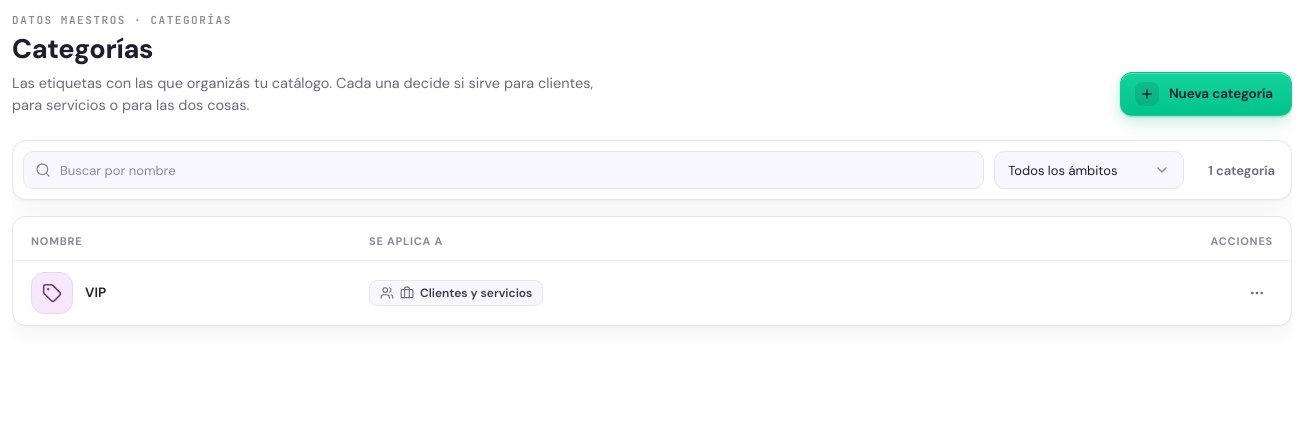
ListadoDeCategorias › Eliminar y Editar están dentro del menú ⋯
expect the menu item "Eliminar" is not shown: met
Click the button named "Más acciones para VIP" at (1257, 293), box [1241,277,1273,309]
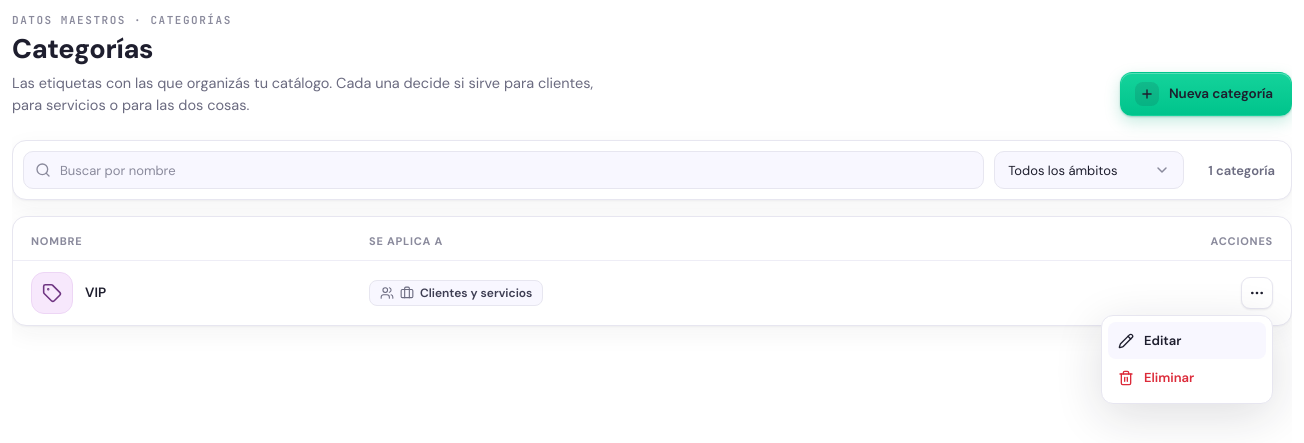
expect the menu item "Editar" is shown: met, box [1108,322,1266,359]
expect the menu item "Eliminar" is shown: met, box [1108,359,1266,397]
